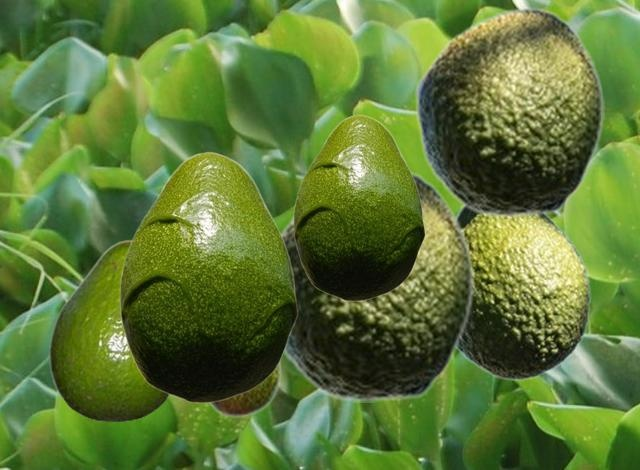avocado: (278, 168, 473, 401), (119, 151, 297, 402), (414, 7, 603, 216), (293, 114, 424, 300), (455, 205, 590, 380), (48, 239, 171, 420), (204, 360, 281, 418)
